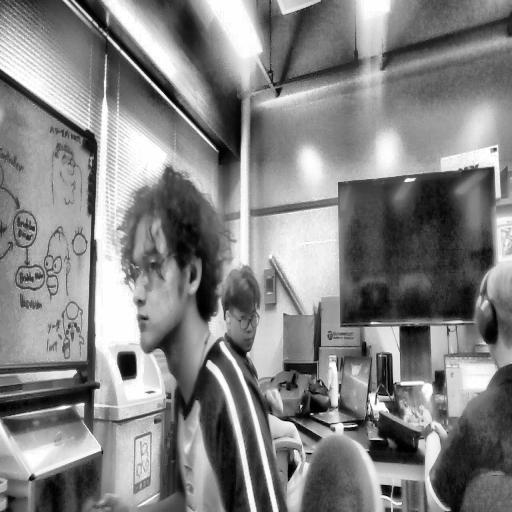Daifuku: (112, 175, 227, 339)
Not Daifuku: (475, 258, 512, 374), (226, 270, 260, 361)
